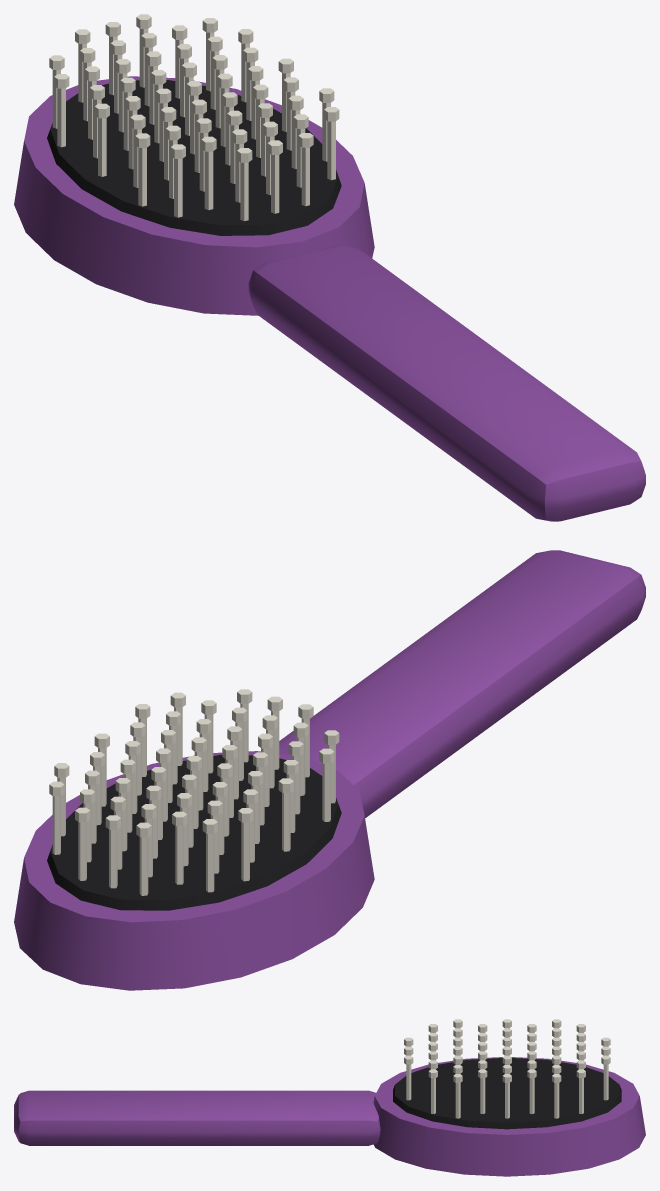
File: hairbrush.glb
The picture shows the model from 3 angles, top to bottom: view 1: azimuth 30°, elevation 25°; view 2: azimuth 150°, elevation 25°; view 3: azimuth 270°, elevation 25°; orthographic projection. The views are drawn at different scales.
Parts seen in each view (by area): view 1: hairbrush; view 2: hairbrush; view 3: hairbrush.
Part boxes in pixels (<box>): hairbrush: <box>14,14,645,521</box>; hairbrush: <box>14,550,645,990</box>; hairbrush: <box>14,1019,645,1176</box>.
Bounding box in the file's own units: 0.065 × 0.0315 × 0.2082.
